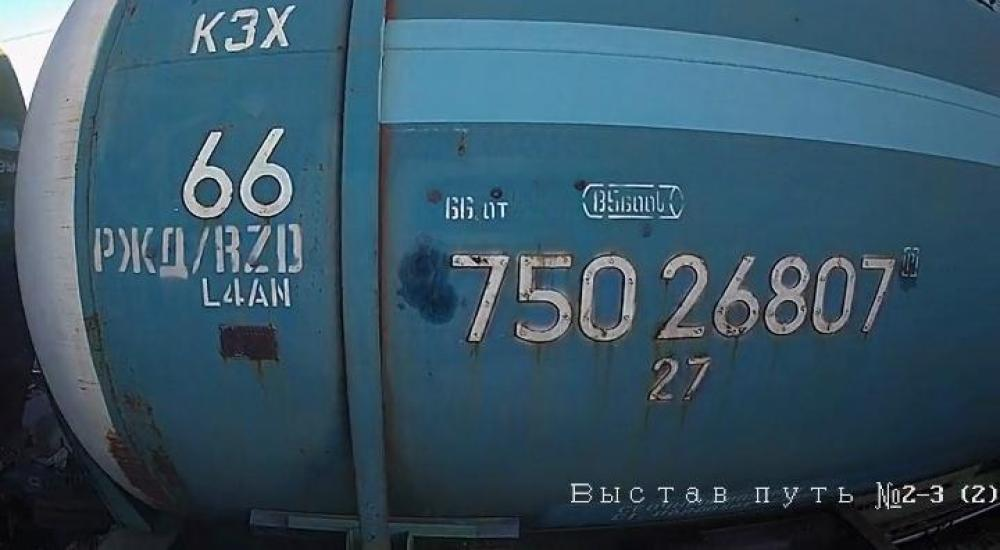Wagon-number: (448, 247, 900, 346)
